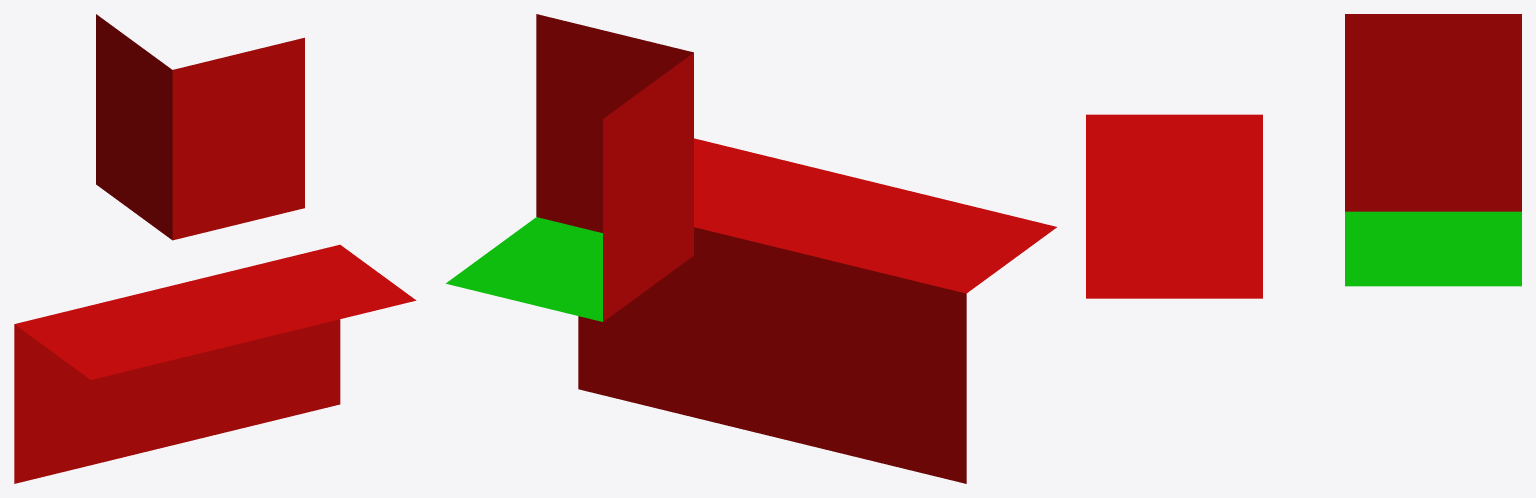
3 views of the same model, side by side, from view 1: azimuth 30°, elevation 25°; view 2: azimuth 150°, elevation 25°; view 3: azimuth 270°, elevation 25° (orthographic). The views are drawn at different scales.
Parts seen in each view (by area): view 1: None_W_E_E_A_A_E_A_A_None; view 2: None_W_E_E_A_A_E_A_A_None; view 3: None_W_E_E_A_A_E_A_A_None.
Part boxes in pixels (x1,y1,x2,y2): None_W_E_E_A_A_E_A_A_None: [14, 14, 416, 483]; None_W_E_E_A_A_E_A_A_None: [446, 14, 1056, 483]; None_W_E_E_A_A_E_A_A_None: [1086, 14, 1521, 298].
Bounding box in the file's own units: 100 × 100 × 100.
